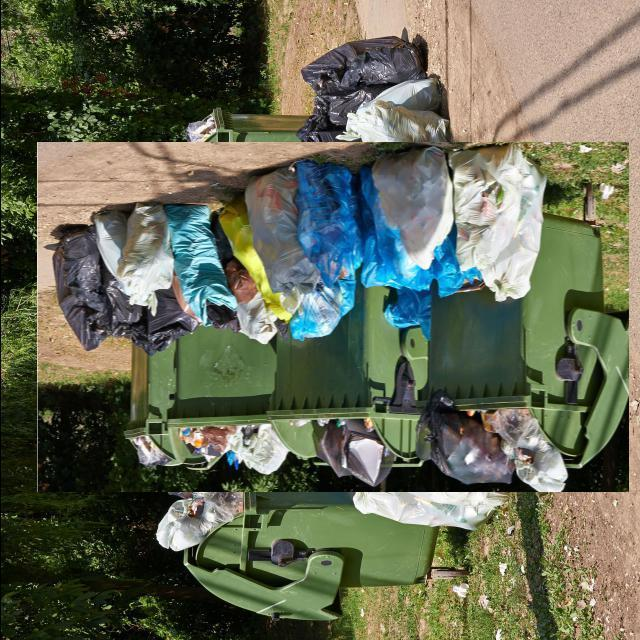Trashbag: (47, 220, 128, 352), (411, 406, 513, 492), (299, 26, 423, 96), (290, 84, 378, 150), (133, 280, 194, 359)
